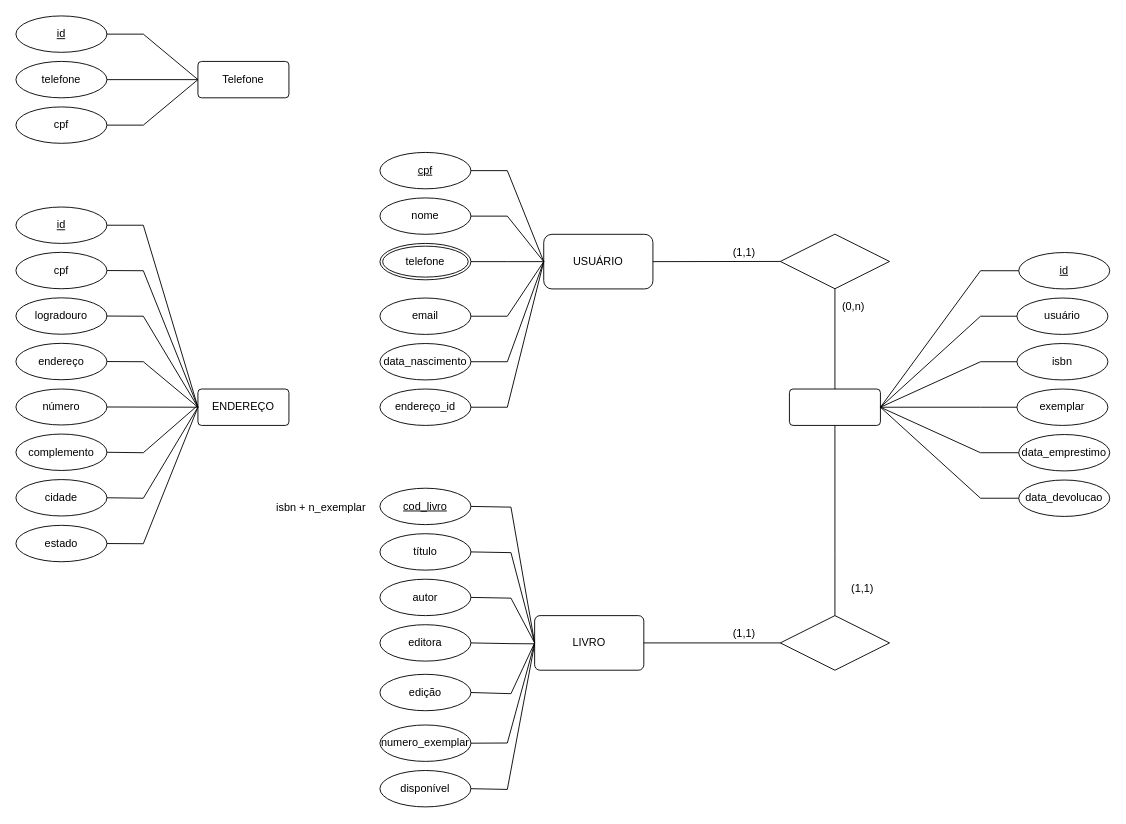
This 1126x824 diagram has some shape labels left out. Here are the shapes that lost their labels. From the top down, the centre of each, then its label:
(x=834, y=261): REALIZA
(x=834, y=406): EMPRÉSTIMO
(x=834, y=642): RELACIONADO
